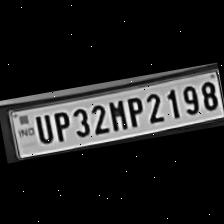1: (160, 84, 180, 119)
2: (140, 88, 166, 124), (86, 98, 110, 135)
3: (68, 102, 90, 138)
8: (196, 76, 219, 112)
9: (175, 79, 200, 116)
M: (105, 96, 128, 132)
P: (121, 91, 145, 128), (48, 106, 72, 142)
U: (30, 109, 53, 144)
